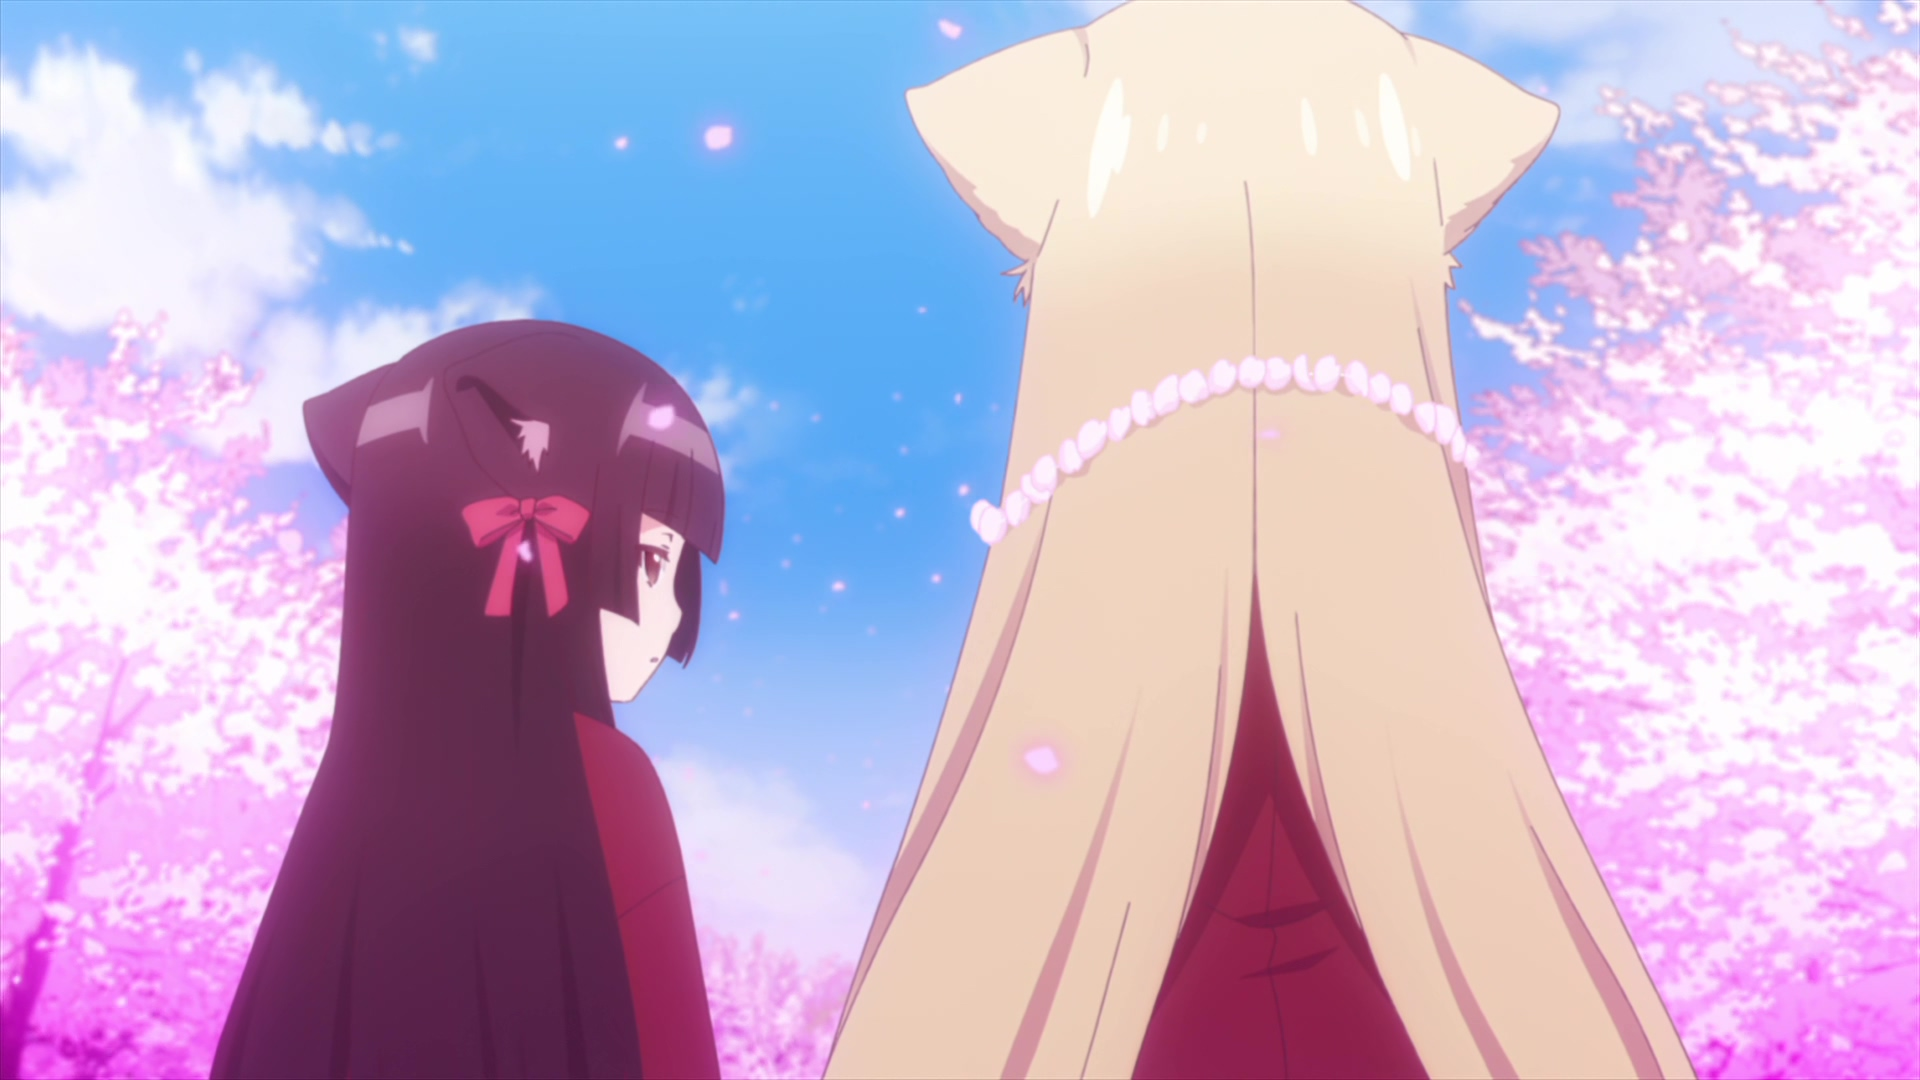柚: (822, 1, 1702, 1080)
樱: (210, 319, 727, 1080)
